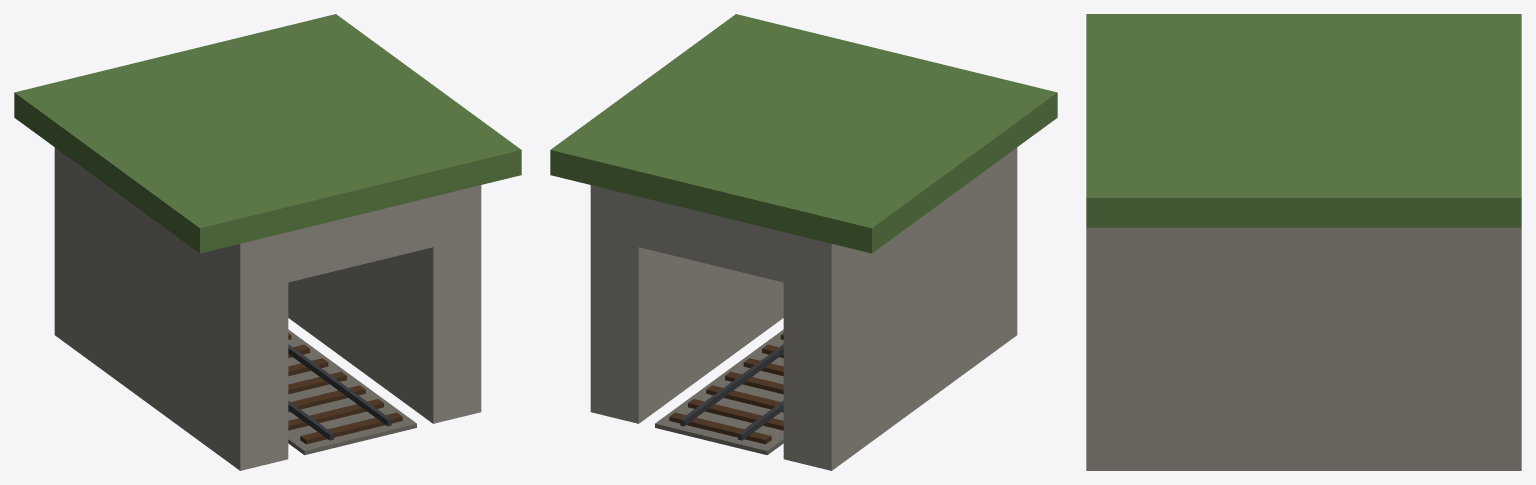
File: road_rail_v_tunnel_lod1.glb
3 renders of one model, left to right at view 1: azimuth 30°, elevation 25°; view 2: azimuth 150°, elevation 25°; view 3: azimuth 270°, elevation 25°, orthographic. The views are drawn at different scales.
Visible parts, largest first — view 1: body; view 2: body; view 3: body.
Part boxes in pixels (<box>): body: <box>14,14,521,470</box>; body: <box>550,14,1057,470</box>; body: <box>1086,14,1521,470</box>.
Size of the model in its own units: 8 by 6 by 8.
